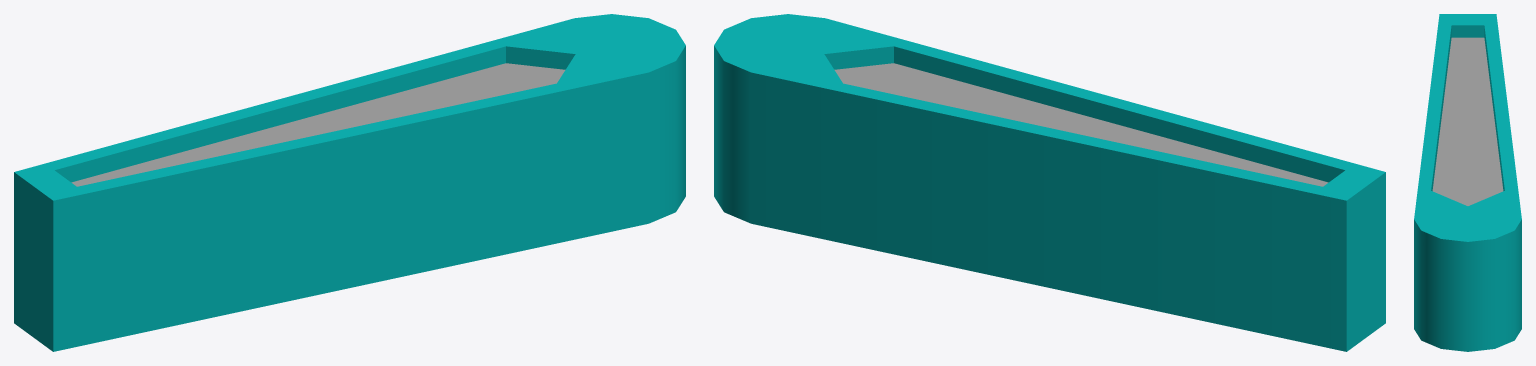
File: Flipper.fbx
The picture shows the model from 3 angles, left to right: view 1: azimuth 30°, elevation 25°; view 2: azimuth 150°, elevation 25°; view 3: azimuth 270°, elevation 25°; orthographic projection. The views are drawn at different scales.
Visible parts, largest first — view 1: Flipper; view 2: Flipper; view 3: Flipper.
Part boxes in pixels (bbox=[...]): Flipper: bbox=[14, 14, 685, 351]; Flipper: bbox=[714, 14, 1385, 351]; Flipper: bbox=[1414, 14, 1521, 351].
Size of the model in its own units: 200 by 45 by 40.
